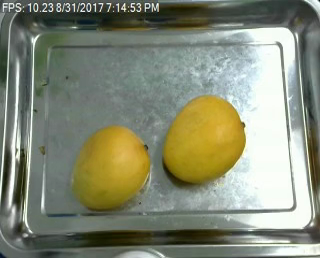Mango: (161, 94, 247, 184), (70, 122, 152, 213)
